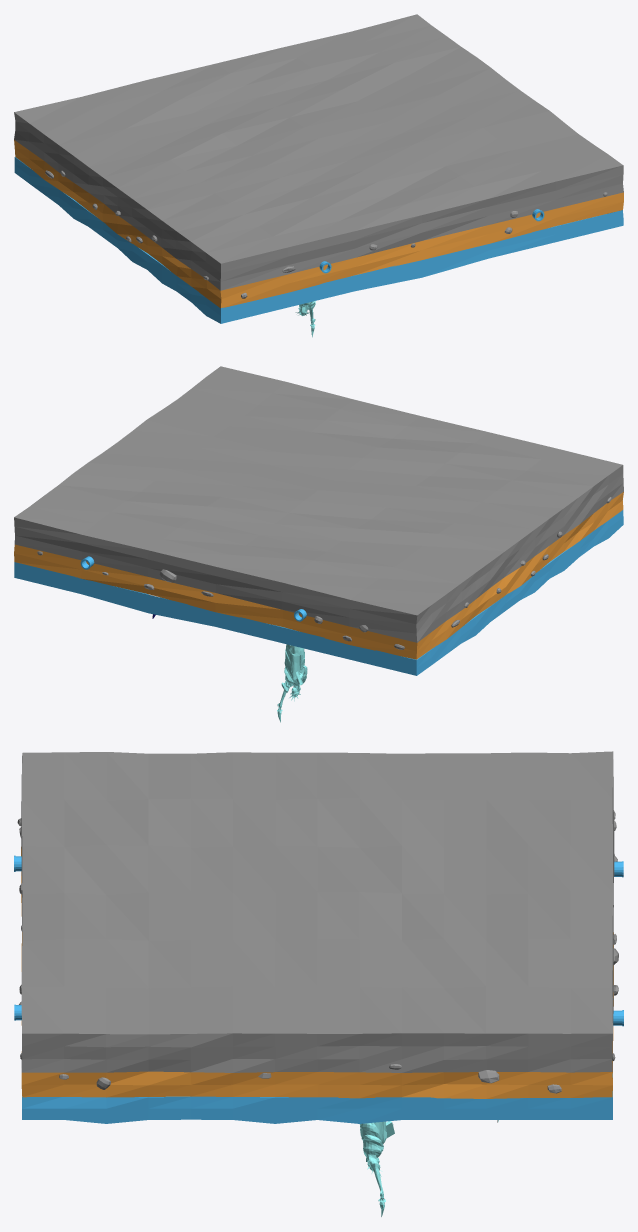
File: estatuaLibertad.fbx
The picture shows the model from 3 angles, top to bottom: view 1: azimuth 30°, elevation 25°; view 2: azimuth 150°, elevation 25°; view 3: azimuth 270°, elevation 25°; orthographic projection. The views are drawn at different scales.
Visible parts, largest first — view 1: estatuaLibertad; view 2: estatuaLibertad; view 3: estatuaLibertad.
Part boxes in pixels (box(x1,y1,x2,y2)): estatuaLibertad: box(14, 14, 623, 337); estatuaLibertad: box(14, 366, 623, 722); estatuaLibertad: box(14, 751, 623, 1216).
Size of the model in its own units: 13970 by 12551 by 7150.
